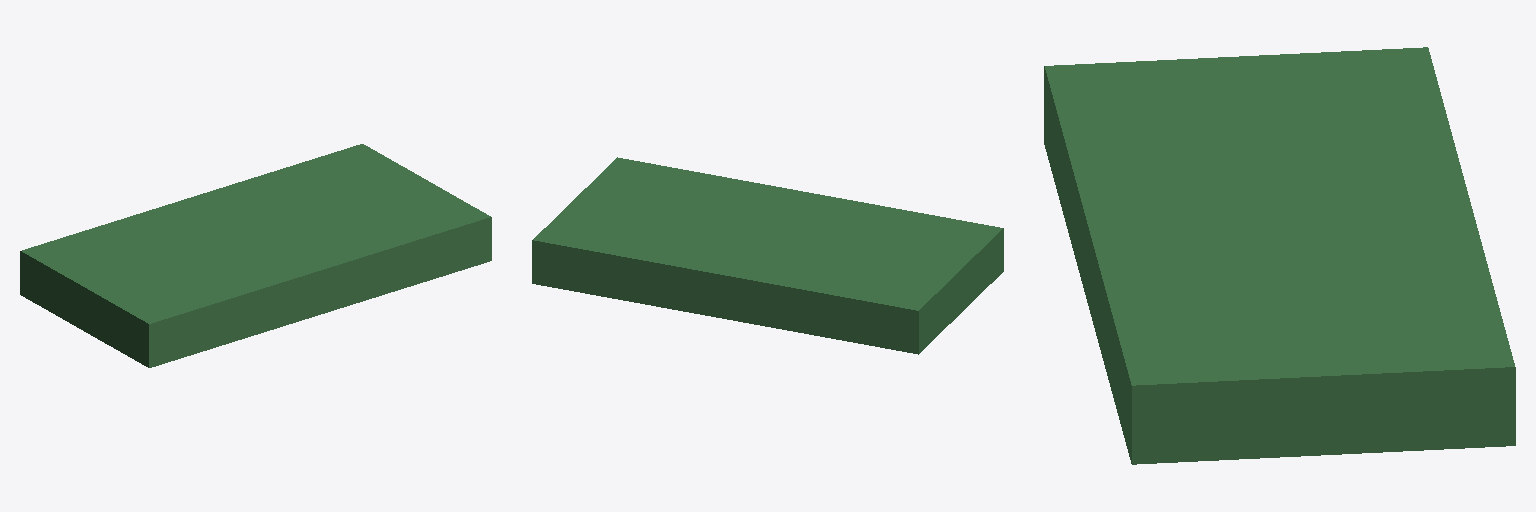
robot.urdf — Interference:
<?xml version="1.0"?>
<robot name="Interference">
  <link name="baseLink">
    <inertial>
      <origin xyz="0.0 0.0 0.0" rpy="0.0 0.0 0.0"/>
      <inertia ixx="0.0" ixy="0.0" ixz="0.0" iyy="0.0" iyz="0.0" izz="0.0"/>
      <mass value="0"/>
    </inertial>
    <visual>
      <origin xyz="0.0 0.0 0.0" rpy="0.0 0.0 0.11479974349293487"/>
      <geometry>
        <box size="0.08734121560835924 0.04430649540471723 0.01"/>
      </geometry>
      <material name="color">
        <color rgba="0.32556332196806803 0.5202106936922346 0.3460757528405106 1.0"/>
      </material>
    </visual>
  </link>
</robot>

--- Render facts (derived) ---
The picture shows the robot from 3 angles, left to right: view 1: azimuth 30°, elevation 25°; view 2: azimuth 150°, elevation 25°; view 3: azimuth 270°, elevation 25°; orthographic projection.
Robot: Interference — 1 links, 0 joints (none); root link baseLink; default pose: all joints at 0.
Visible links, largest first — view 1: baseLink; view 2: baseLink; view 3: baseLink.
Boxes of the visible links, <box> form: baseLink: <box>20,144,491,367</box>; baseLink: <box>532,157,1003,354</box>; baseLink: <box>1044,47,1515,464</box>.
Size in the robot's own frame: 0.0918 by 0.054 by 0.01 metres.
Geometry: primitives only (box / cylinder / sphere), no mesh files.